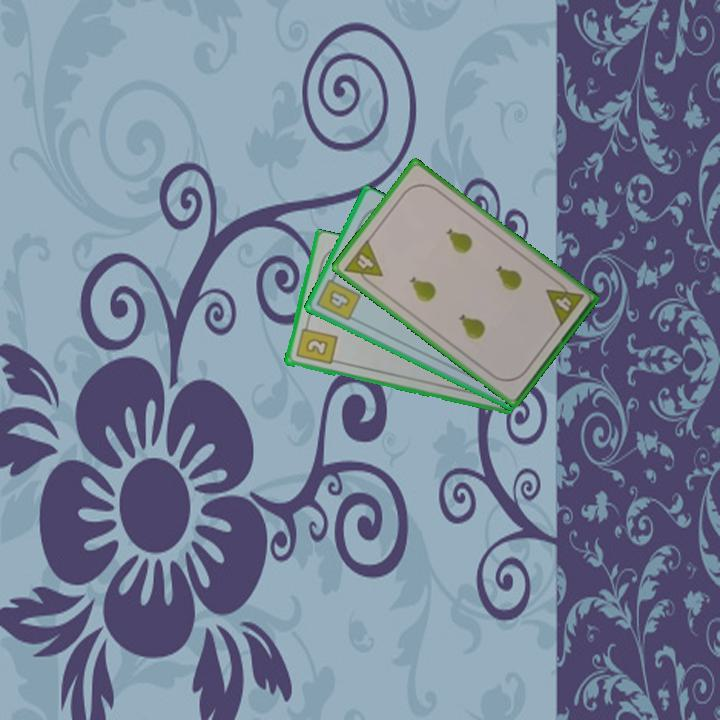2b: (292, 319, 339, 367)
4b: (313, 270, 364, 324)
4p: (340, 236, 386, 290), (542, 276, 586, 329)
